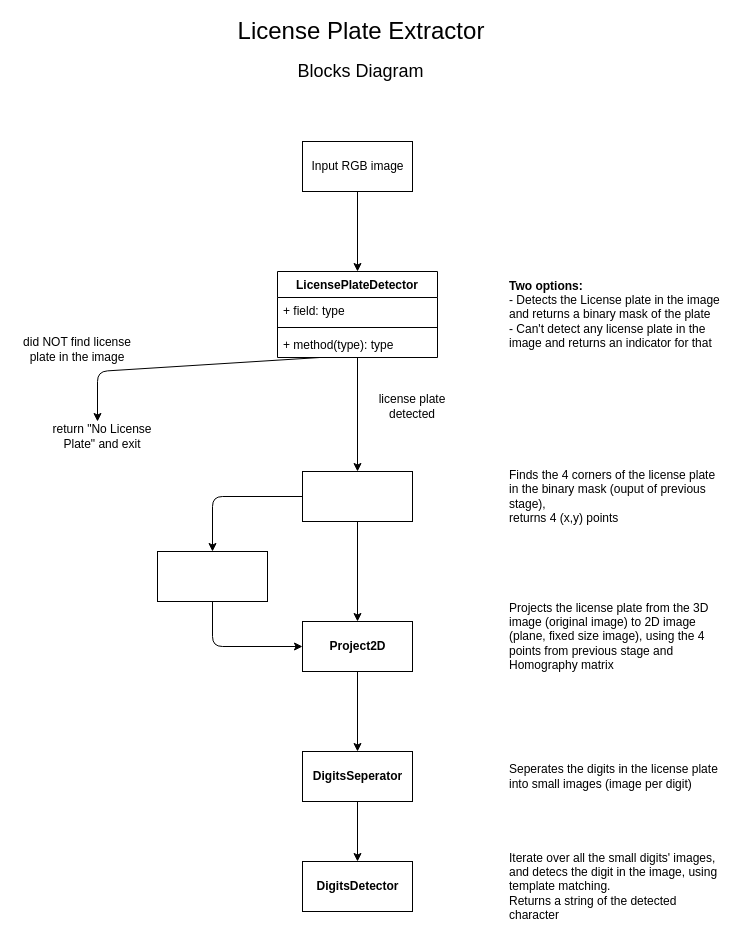
The diagram is 744 pixels wide and 940 high, and some of its shapes have lost their labels. The centre of each missing label's shape, as x and y in pixels:
"CalcHomography" goes at point (212, 576).
"CornersDetector" goes at point (357, 496).
